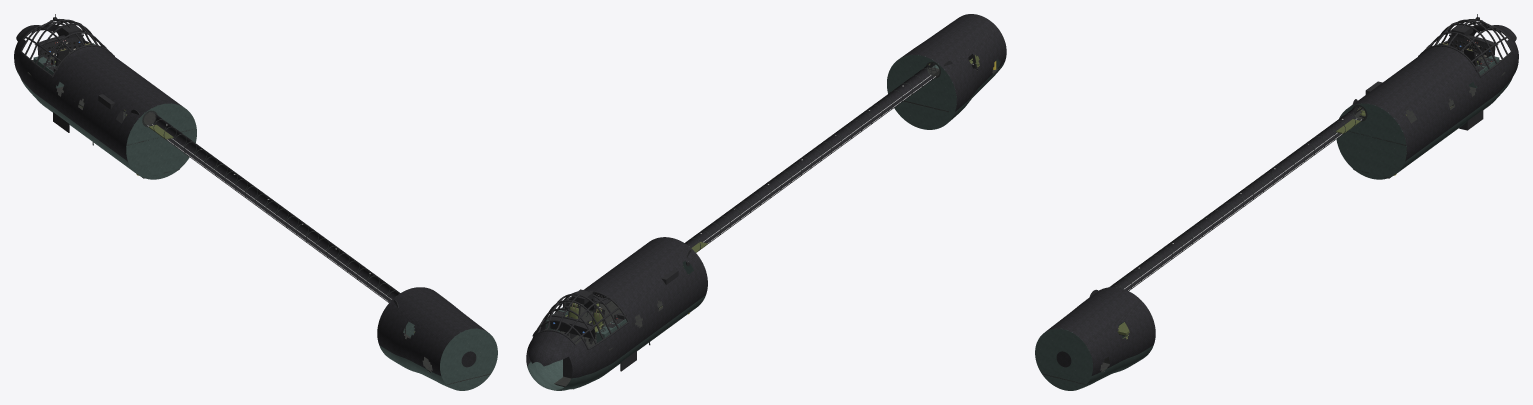
Rendered from b36_interior.glb.
3 renders of one model, left to right at view 1: azimuth 30°, elevation 25°; view 2: azimuth 150°, elevation 25°; view 3: azimuth 330°, elevation 25°, orthographic.
Parts seen in each view (by area): view 1: Int_Shell, Int_ShellAft, Int_Tunnel, Int_AftBulkhead, Int_AftRearBulkhead, Int_CanopyFrame, Int_Panel; view 2: Int_Shell, Int_ShellAft, Int_Tunnel, Int_AftFwdBulkhead, Int_CanopyFrame, Int_Floors, Int_Panel; view 3: Int_Shell, Int_ShellAft, Int_Tunnel, Int_AftBulkhead, Int_AftRearBulkhead, Int_CanopyFrame, Int_Panel.
Boxes of the visible parts, bbox=[...] form: Int_Shell: bbox=[14, 25, 182, 172]; Int_ShellAft: bbox=[377, 287, 486, 388]; Int_Tunnel: bbox=[143, 112, 400, 302]; Int_AftBulkhead: bbox=[126, 103, 196, 179]; Int_AftRearBulkhead: bbox=[440, 328, 497, 390]; Int_CanopyFrame: bbox=[20, 19, 113, 77]; Int_Panel: bbox=[34, 34, 83, 57]; Int_Shell: bbox=[526, 237, 707, 390]; Int_ShellAft: bbox=[887, 14, 1006, 129]; Int_Tunnel: bbox=[685, 65, 936, 250]; Int_AftFwdBulkhead: bbox=[887, 55, 956, 129]; Int_CanopyFrame: bbox=[532, 290, 628, 349]; Int_Floors: bbox=[544, 274, 688, 389]; Int_Panel: bbox=[547, 315, 595, 339]; Int_Shell: bbox=[1350, 25, 1518, 172]; Int_ShellAft: bbox=[1046, 287, 1155, 388]; Int_Tunnel: bbox=[1109, 106, 1365, 290]; Int_AftBulkhead: bbox=[1336, 103, 1406, 179]; Int_AftRearBulkhead: bbox=[1035, 328, 1092, 390]; Int_CanopyFrame: bbox=[1419, 19, 1512, 77]; Int_Panel: bbox=[1449, 34, 1498, 57].
Bounding box in the file's own units: 3.62 × 4.23 × 39.2.
Materials: 41 (17 with a texture image).
